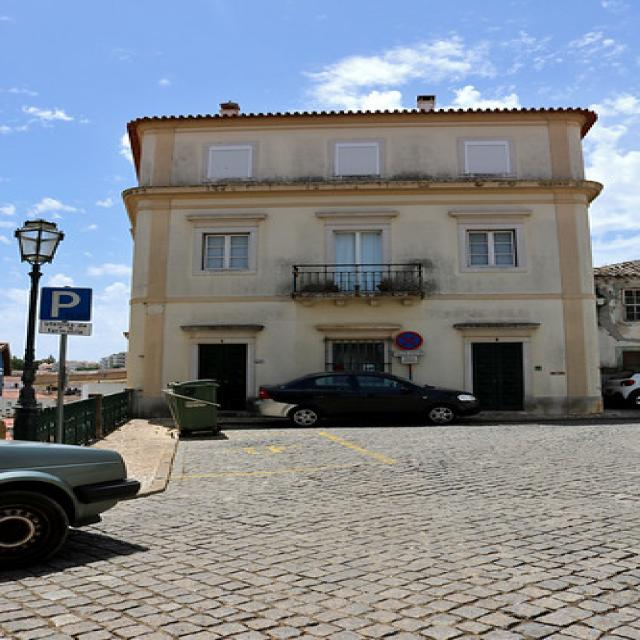building: (116, 95, 608, 422)
